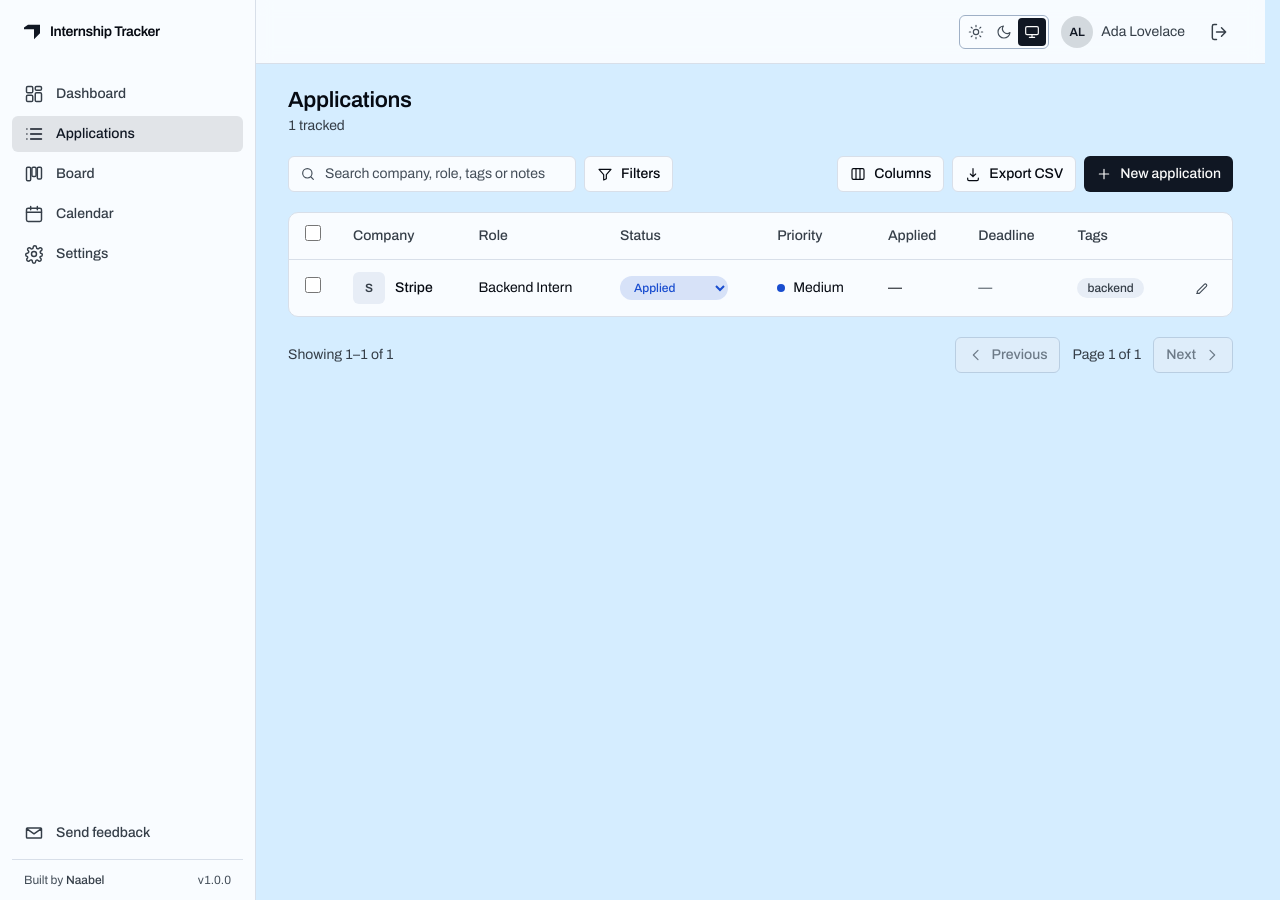
Test: the Export CSV menu › is announced as a menu, and each choice has a name and a description
Click the button "Export CSV": [1014, 174] box [952, 156, 1076, 192]
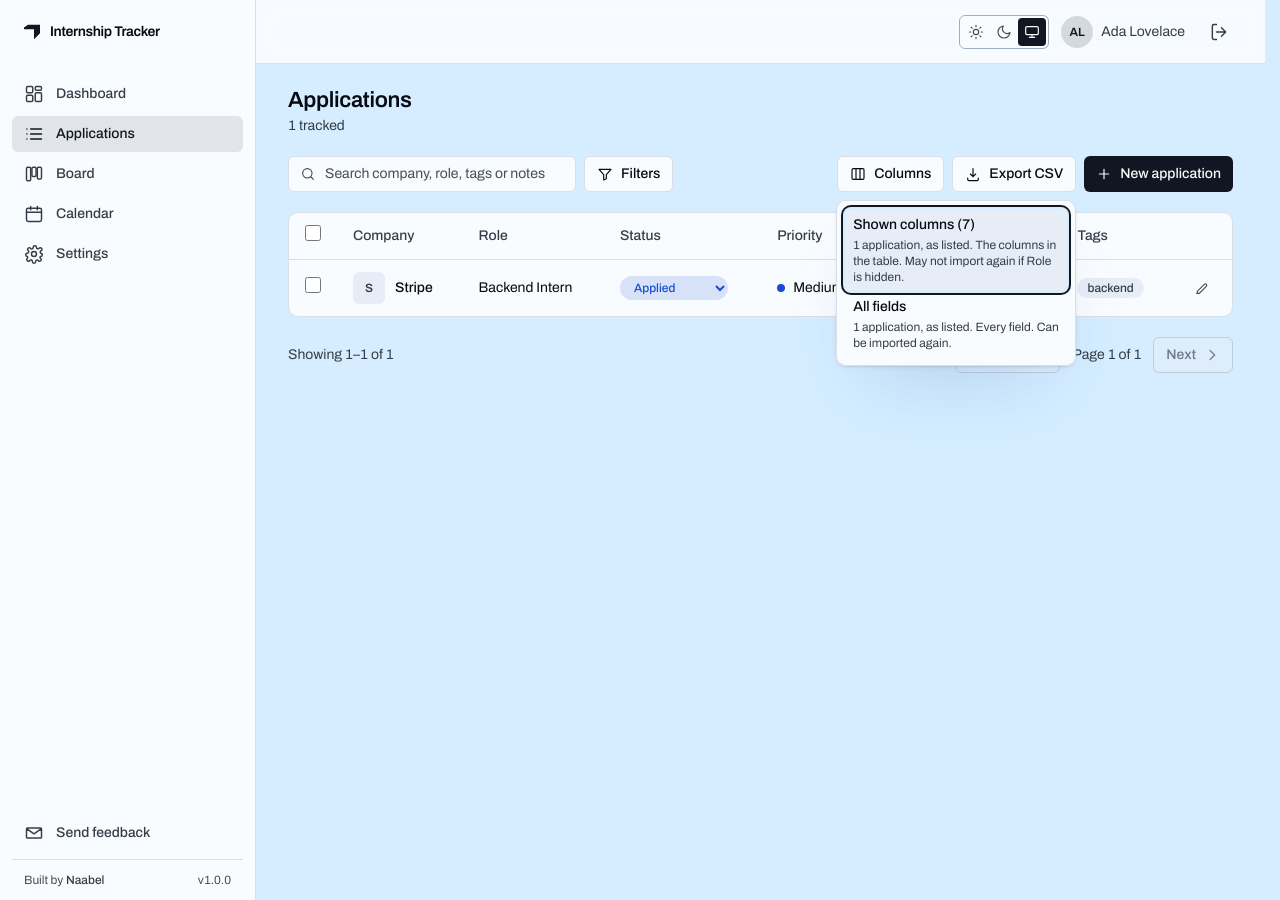
Check: the menu named "Export CSV" is shown, box [836, 200, 1076, 366]
